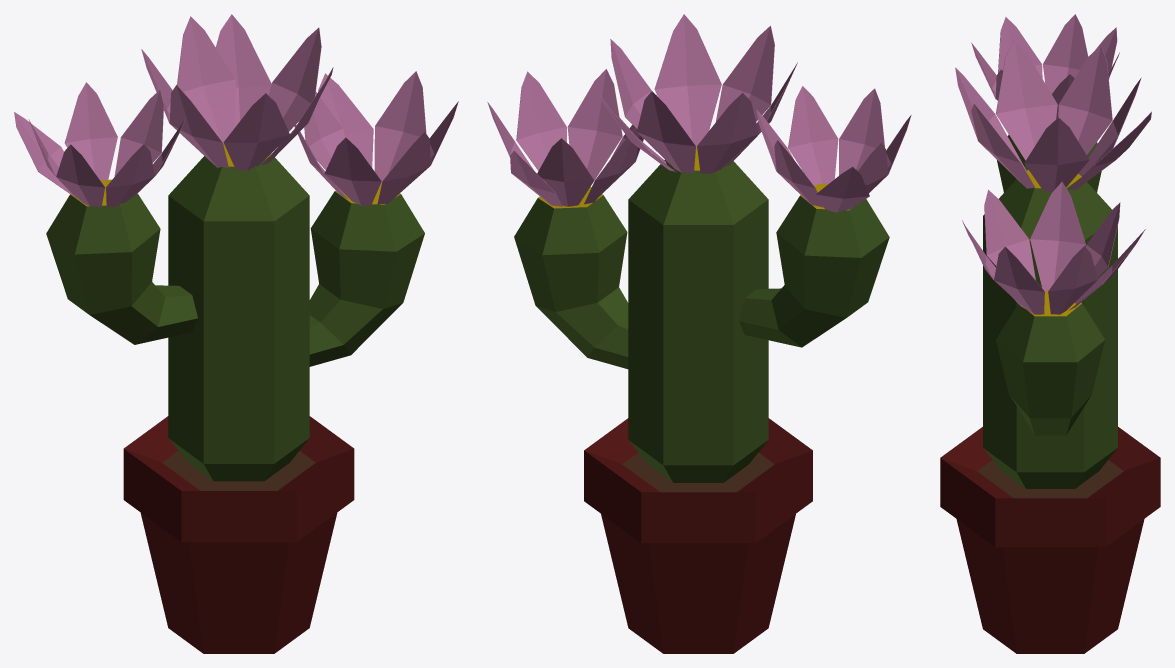
Rendered from FlowerPot5.glb.
3 renders of one model, left to right at view 1: azimuth 30°, elevation 25°; view 2: azimuth 150°, elevation 25°; view 3: azimuth 270°, elevation 25°, orthographic. The views are drawn at different scales.
Parts seen in each view (by area): view 1: FlowerPot5; view 2: FlowerPot5; view 3: FlowerPot5.
Boxes of the visible parts, x1,y1,x2,y2 form: FlowerPot5: (14,14,458,653); FlowerPot5: (487,14,911,653); FlowerPot5: (940,14,1160,653).
Bounding box in the file's own units: 1.44 × 2.02 × 0.7312.
